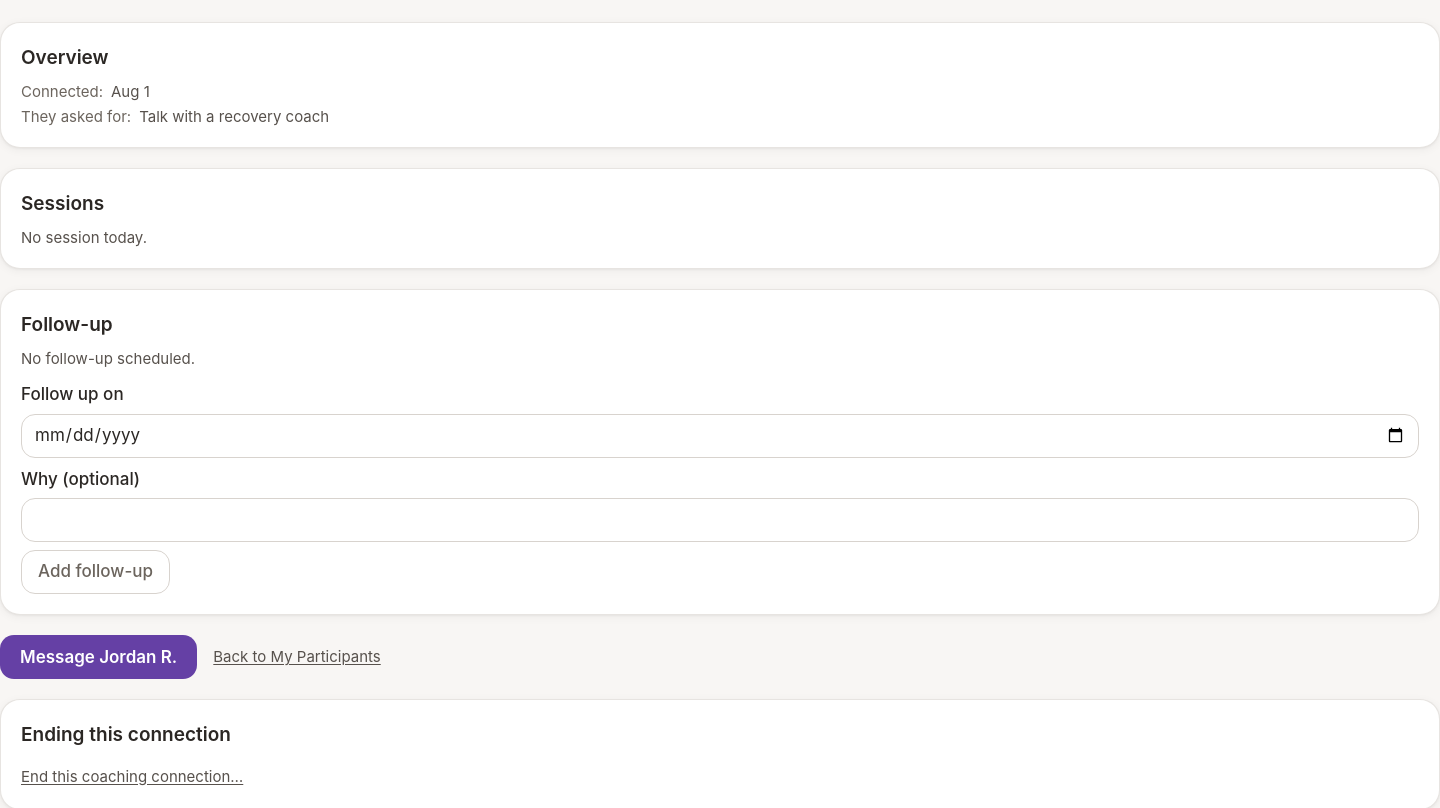
ParticipantDetailPage — ending a connection › surfaces a refusal instead of navigating away
(page scrolled)
Click the button "End this coaching connection…" at x=132, y=776, box [21,766,243,787]
(page scrolled)
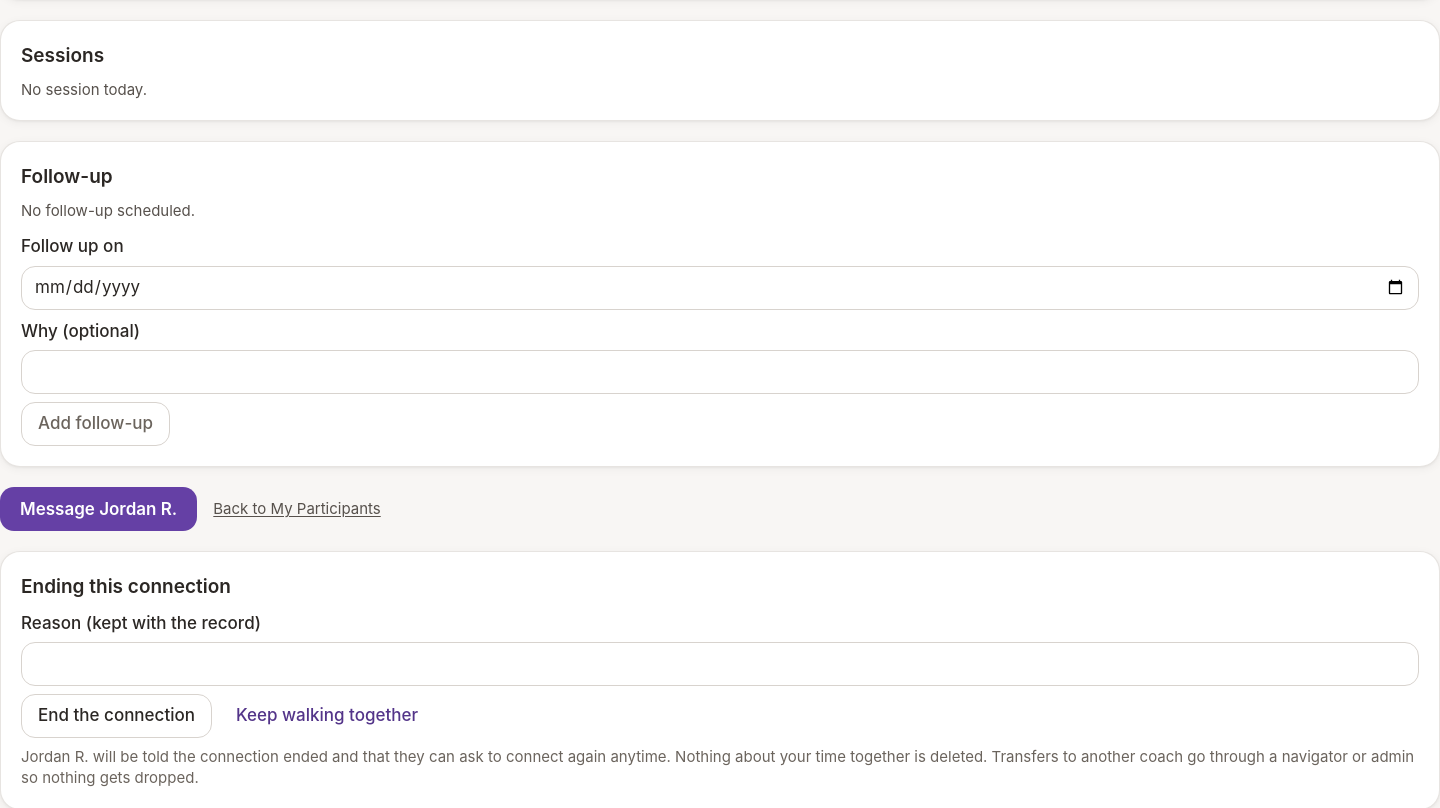
Click the button "End the connection" at x=116, y=716, box [21,694,212,738]
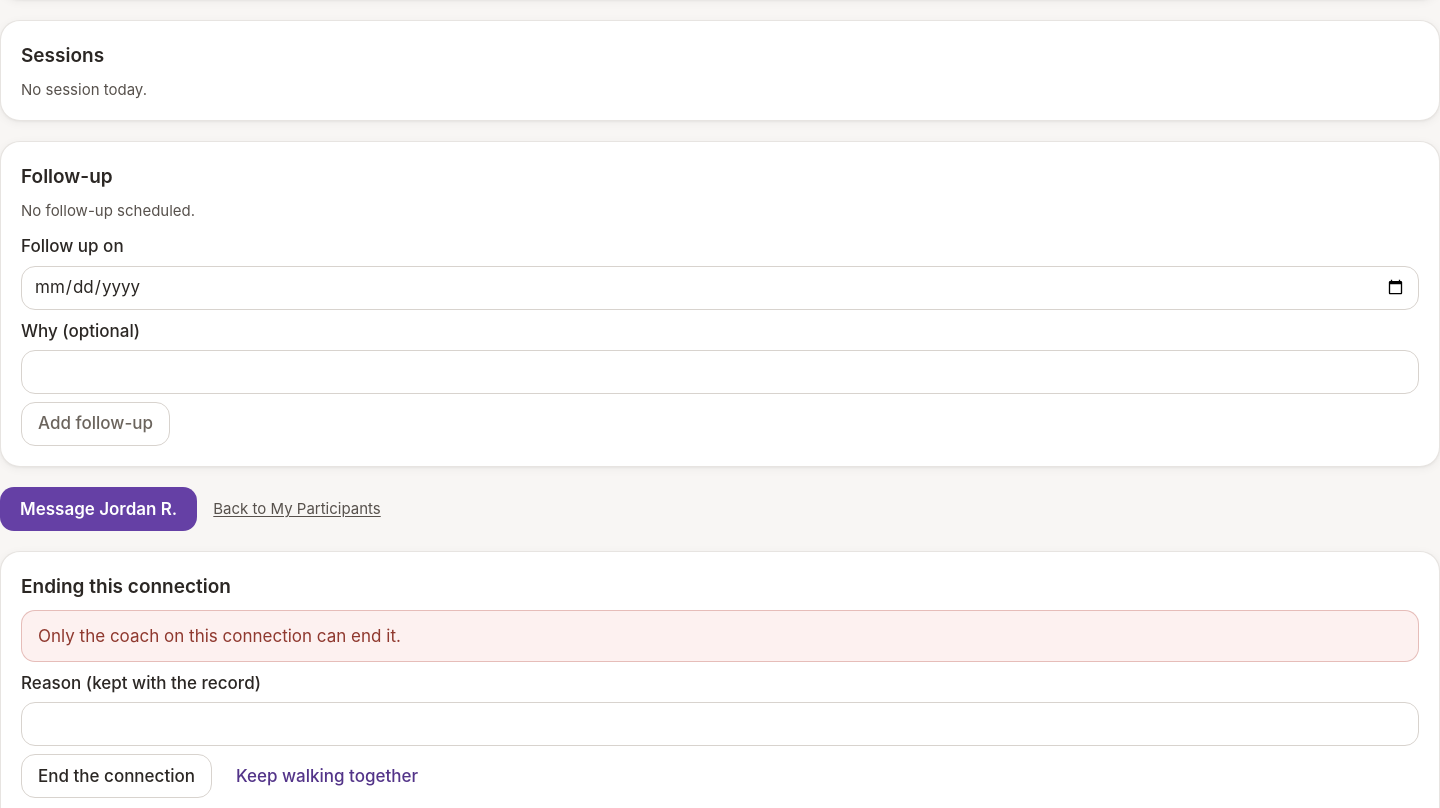
Check: the text "Only the coach on this connection can end it." is shown, box [21,610,1419,662]
